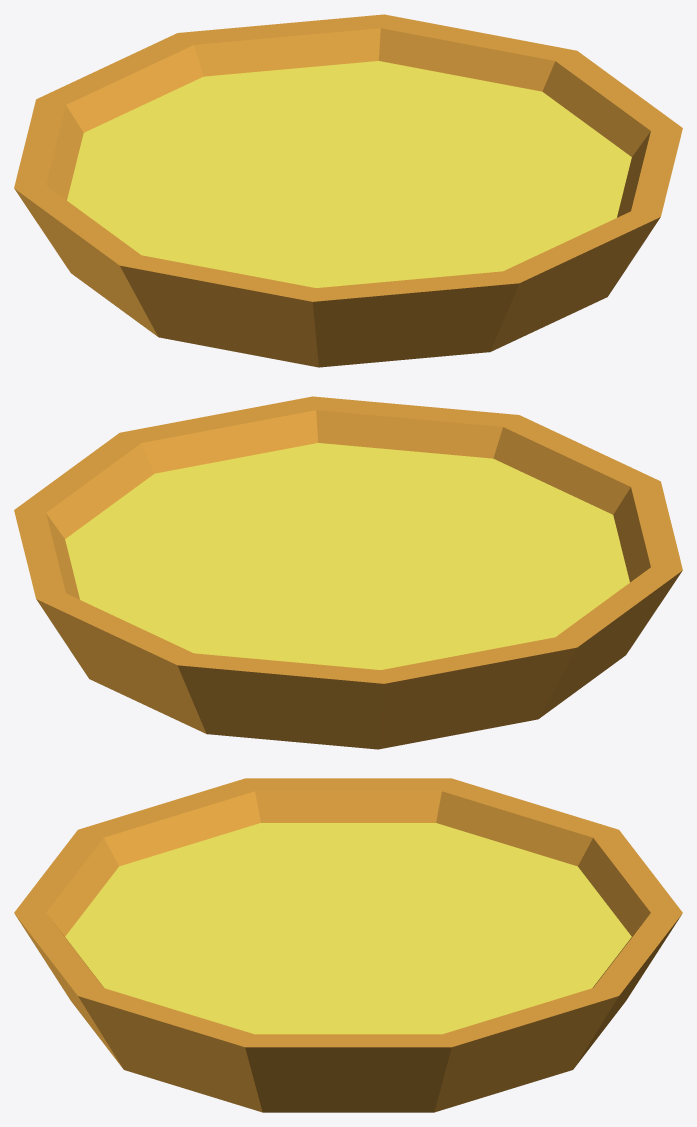
Rendered from tart.002.fbx.
The picture shows the model from 3 angles, top to bottom: view 1: azimuth 30°, elevation 25°; view 2: azimuth 150°, elevation 25°; view 3: azimuth 270°, elevation 25°; orthographic projection. The views are drawn at different scales.
Visible parts, largest first — view 1: tart.002_LOD0; view 2: tart.002_LOD0; view 3: tart.002_LOD0.
Part boxes in pixels (x1,y1,x2,y2): tart.002_LOD0: (14,14,682,367); tart.002_LOD0: (14,396,682,749); tart.002_LOD0: (14,778,682,1112).
Size of what is drawn, in the model's own units: 0.4294 by 0.0656 by 0.4515.
